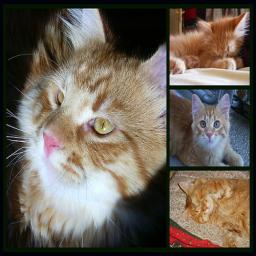catnose: (43, 131, 65, 158), (206, 132, 214, 140), (204, 204, 210, 212)
